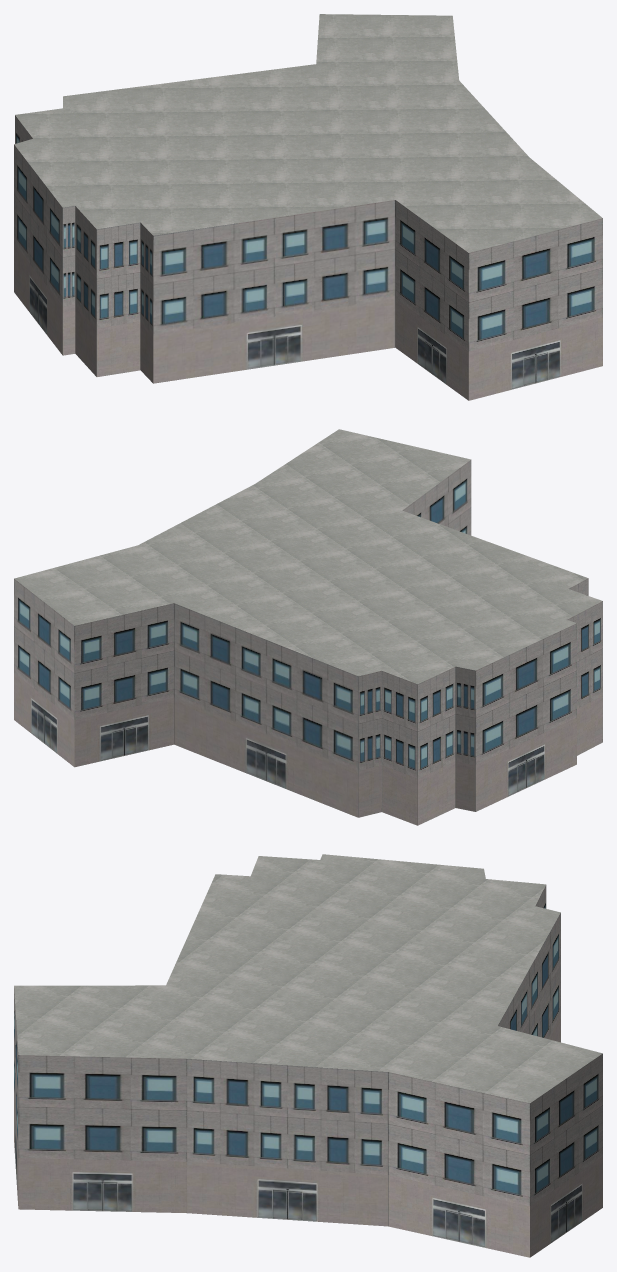
3 views of the same model, one above another, from view 1: azimuth 30°, elevation 25°; view 2: azimuth 150°, elevation 25°; view 3: azimuth 270°, elevation 25° (orthographic). The views are drawn at different scales.
Parts seen in each view (by area): view 1: BuildingMaster_2003194619634462864800000000_0, BuildingMaster_2003194619634462864800000000_1; view 2: BuildingMaster_2003194619634462864800000000_0, BuildingMaster_2003194619634462864800000000_1; view 3: BuildingMaster_2003194619634462864800000000_0, BuildingMaster_2003194619634462864800000000_1.
Boxes of the visible parts, bbox=[...] form: BuildingMaster_2003194619634462864800000000_0: bbox=[14, 115, 602, 400]; BuildingMaster_2003194619634462864800000000_1: bbox=[14, 14, 602, 252]; BuildingMaster_2003194619634462864800000000_0: bbox=[14, 460, 602, 825]; BuildingMaster_2003194619634462864800000000_1: bbox=[14, 429, 602, 684]; BuildingMaster_2003194619634462864800000000_0: bbox=[14, 885, 602, 1257]; BuildingMaster_2003194619634462864800000000_1: bbox=[14, 854, 602, 1103].
Size of the model in its own units: 36.37 by 10.5 by 36.32.
2 materials, 2 textured.
